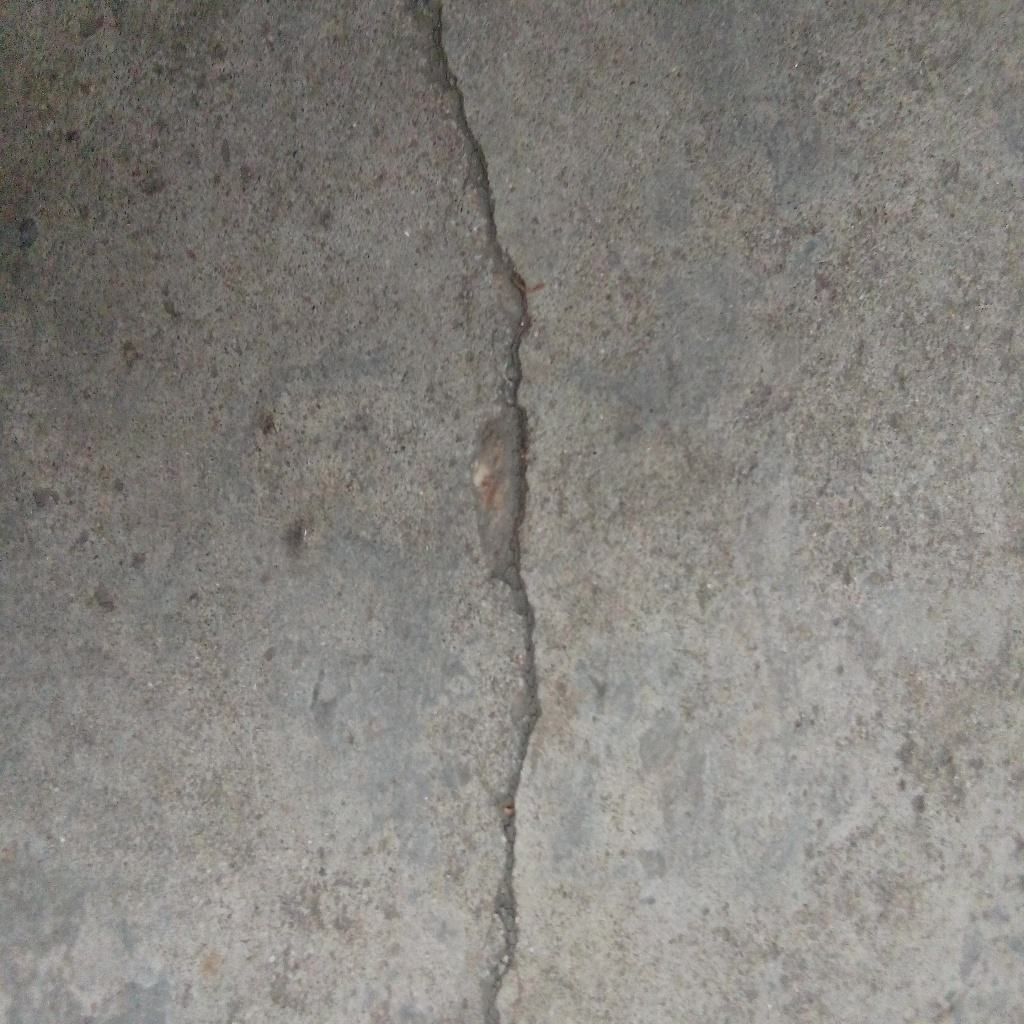Crack: (430, 1, 545, 1024)
